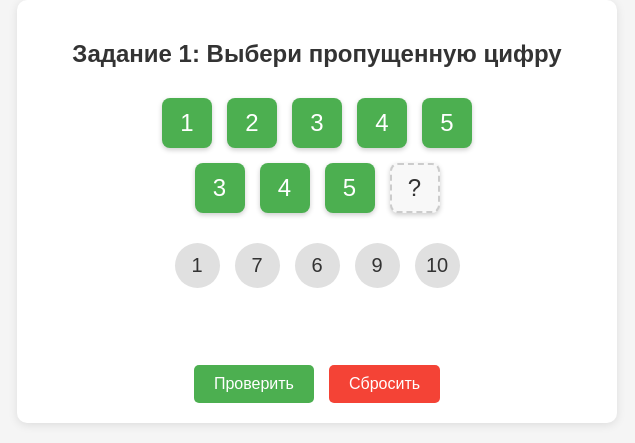
Test: MissingNumberGame › shows "Выберите вариант!" if no answer selected
Click the button "Проверить": coordinates (254, 384) [194, 365, 314, 403]
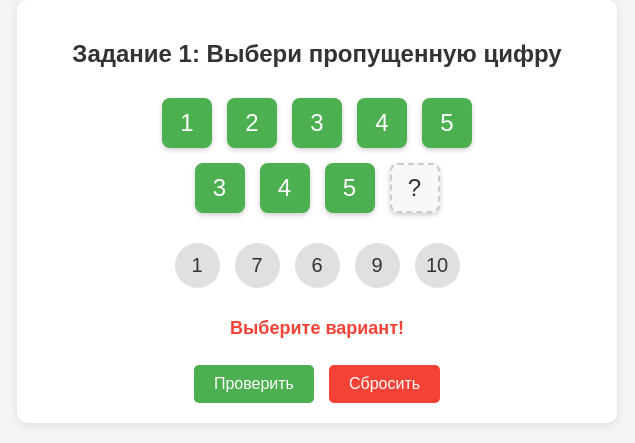
Now the text "Выберите вариант!" is shown, box [230, 318, 404, 338]
